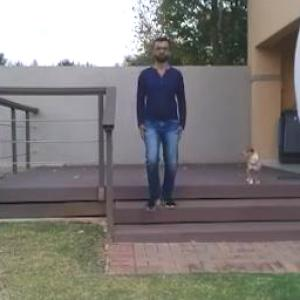follow: (134, 38, 177, 214)
